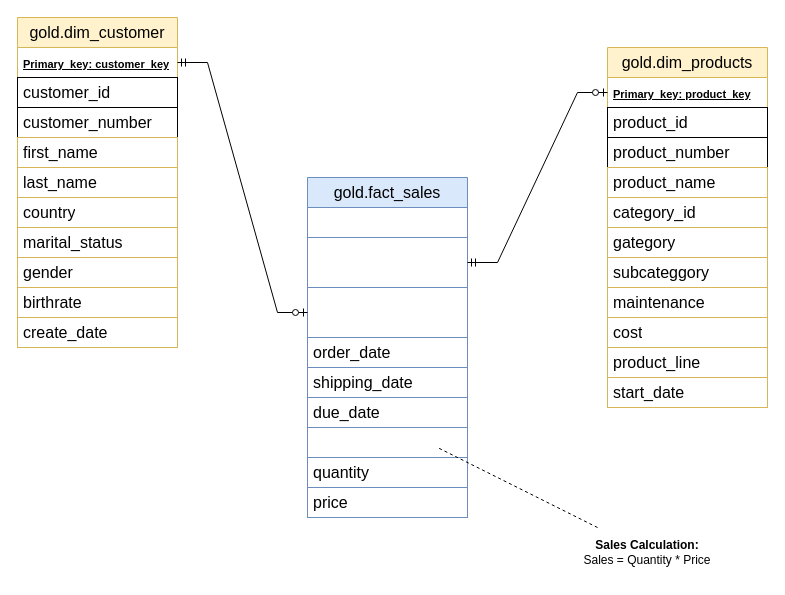
The diagram is 785 pixels wide and 595 high, and some of its shapes have lost their labels. The centre of each missing label's shape, as x and y in pixels:
"Foreign Key 1: product_key" goes at pixel 387 262.
"Foreign Key 2: customer_key" goes at pixel 387 312.
"Primary_key: order_number" goes at pixel 387 222.
"sales_amount" goes at pixel 387 442.
